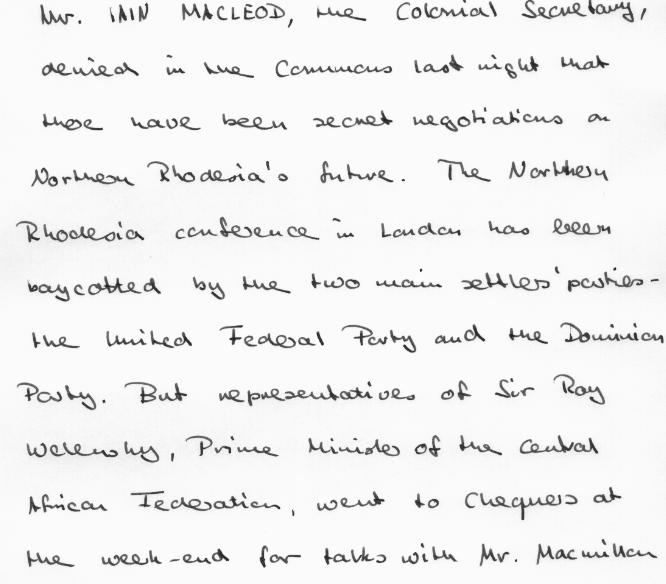text: (22, 262, 666, 305), (14, 371, 609, 412), (26, 485, 625, 525), (22, 535, 666, 572), (26, 319, 666, 355), (13, 212, 614, 246), (29, 154, 612, 189), (23, 432, 602, 466), (40, 51, 612, 84), (40, 103, 614, 134), (36, 0, 647, 29)
